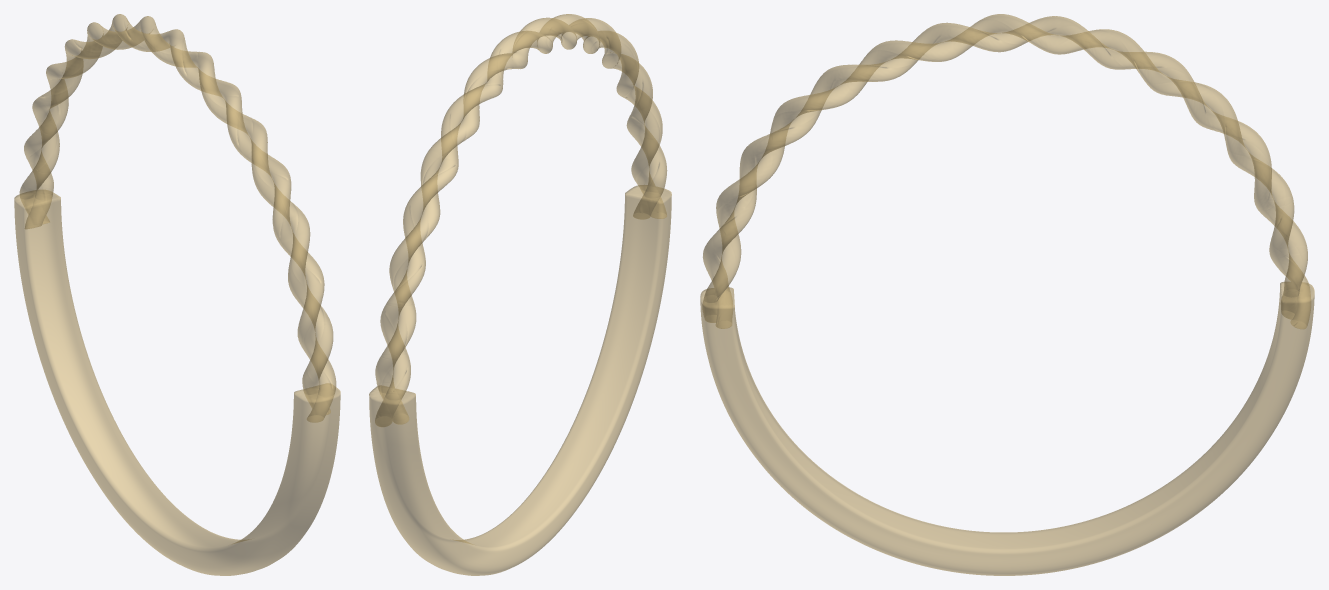
3 renders of one model, left to right at view 1: azimuth 30°, elevation 25°; view 2: azimuth 150°, elevation 25°; view 3: azimuth 270°, elevation 25°, orthographic. The views are drawn at different scales.
Visible parts, largest first — view 1: ring; view 2: ring; view 3: ring.
Part boxes in pixels (box(x1,y1,x2,y2)): ring: box(14, 14, 340, 575); ring: box(369, 14, 671, 575); ring: box(700, 14, 1314, 575).
Size of the model in its own units: 0.2161 by 2.17 by 2.17.
